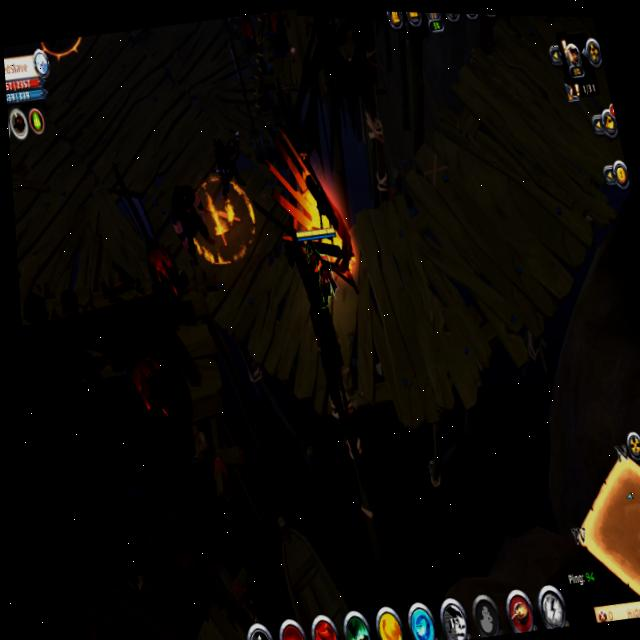ore: (156, 167, 233, 280), (205, 132, 256, 208), (37, 35, 91, 61)
red: (292, 219, 356, 322)
